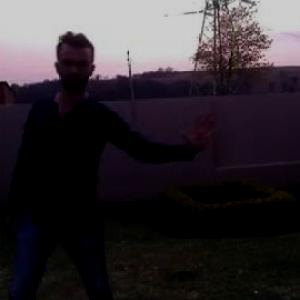follow_hand: (180, 106, 222, 156)
